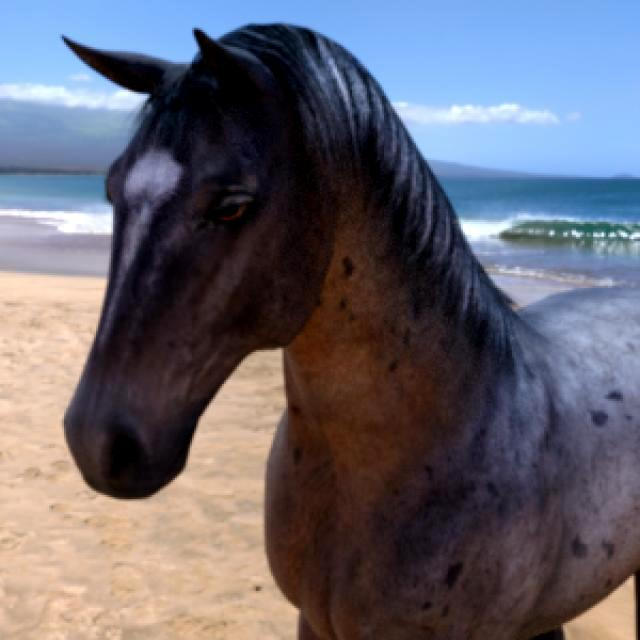horse: (65, 25, 640, 639)
